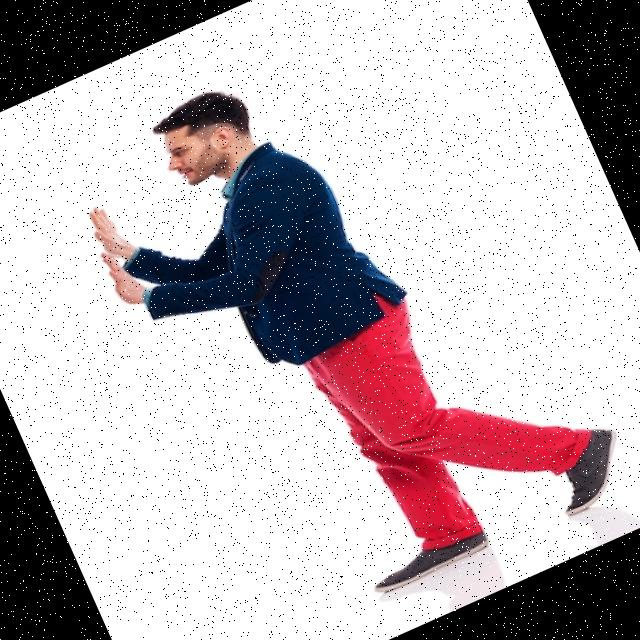Person: (59, 0, 639, 640)
